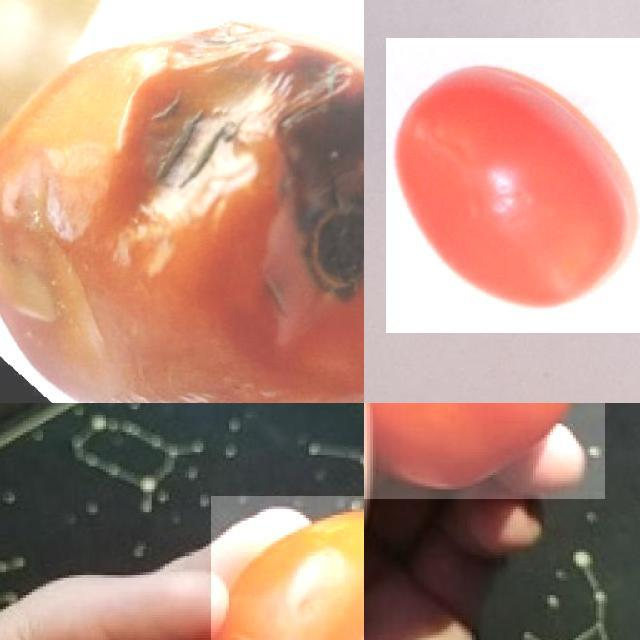Fresh Tomato: (386, 38, 640, 333), (364, 403, 604, 498)
Rotten Tomato: (0, 0, 364, 403), (211, 496, 364, 640)
